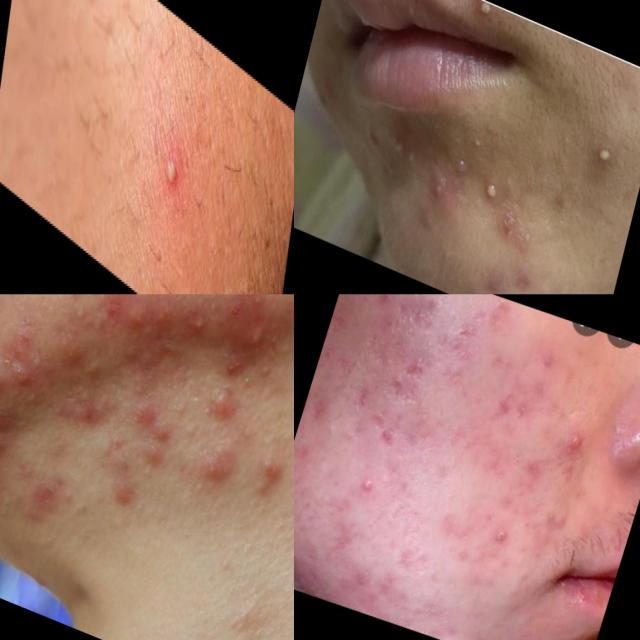8: (554, 419, 598, 462), (151, 294, 189, 337), (119, 295, 153, 340), (376, 367, 410, 402), (372, 294, 398, 314)
9: (183, 304, 224, 355), (348, 466, 384, 505), (477, 173, 505, 220), (595, 138, 623, 174), (0, 419, 16, 471), (429, 174, 451, 210), (488, 523, 514, 550), (475, 0, 495, 26), (0, 356, 9, 408)
blackheads: (206, 294, 290, 388), (184, 430, 246, 509), (377, 120, 424, 180), (484, 387, 534, 431), (396, 345, 444, 390), (372, 416, 407, 451), (518, 452, 552, 484)
dark spot: (224, 263, 252, 294)
whiteheads: (160, 145, 183, 203)
